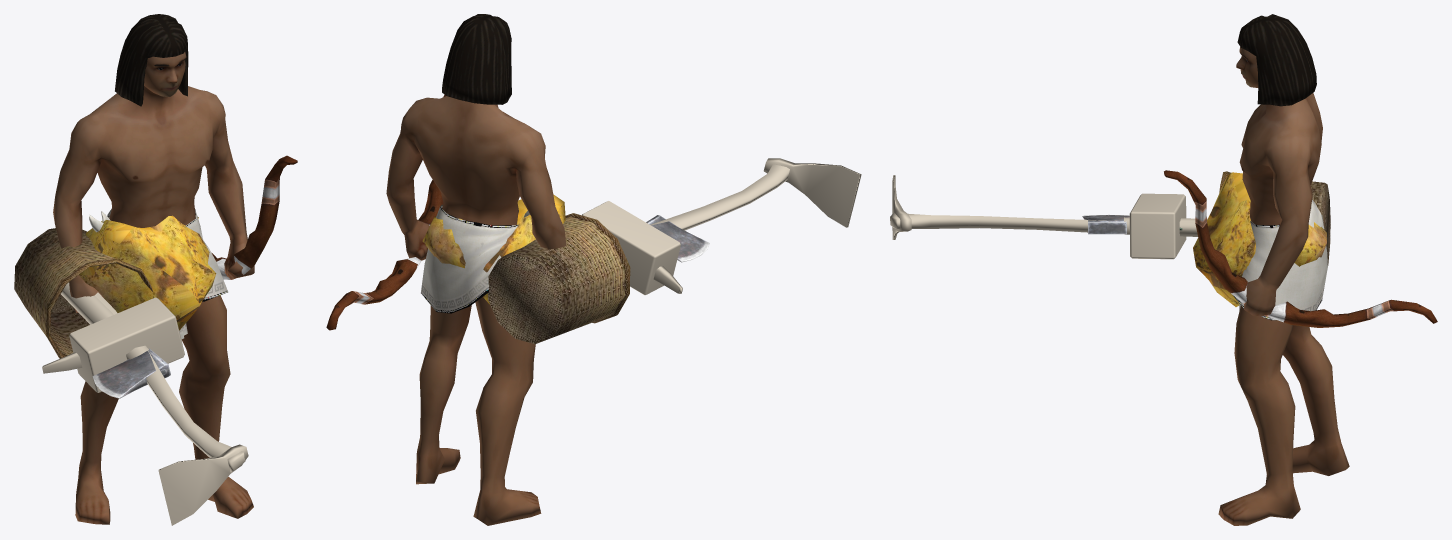
The model's file is 183-villageraztec.glb.
3 views of the same model, side by side, from view 1: azimuth 30°, elevation 25°; view 2: azimuth 150°, elevation 25°; view 3: azimuth 270°, elevation 25° (orthographic). The views are drawn at different scales.
Bounding box in the file's own units: 1.25 × 2.06 × 2.16.
9 materials, 6 textured.
